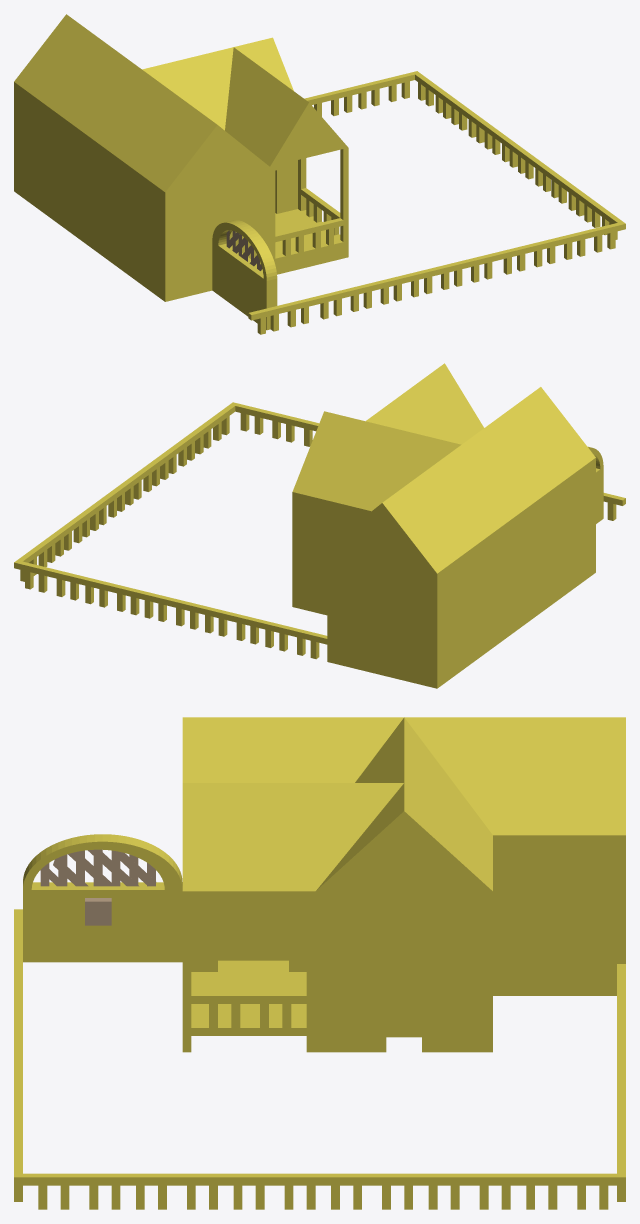
Rendered from Andreayellowhouse.glb.
The picture shows the model from 3 angles, top to bottom: view 1: azimuth 30°, elevation 25°; view 2: azimuth 150°, elevation 25°; view 3: azimuth 270°, elevation 25°; orthographic projection. The views are drawn at different scales.
Parts seen in each view (by area): view 1: Mesh_Mesh_head_geo.001_lambert2SG.001; view 2: Mesh_Mesh_head_geo.001_lambert2SG.001; view 3: Mesh_Mesh_head_geo.001_lambert2SG.001.
Boxes of the visible parts, box(x1,y1,x2,y2) form: Mesh_Mesh_head_geo.001_lambert2SG.001: box(14, 14, 625, 334); Mesh_Mesh_head_geo.001_lambert2SG.001: box(14, 363, 625, 688); Mesh_Mesh_head_geo.001_lambert2SG.001: box(14, 717, 625, 1209).
Bounding box in the file's own units: 77 × 30 × 69.
